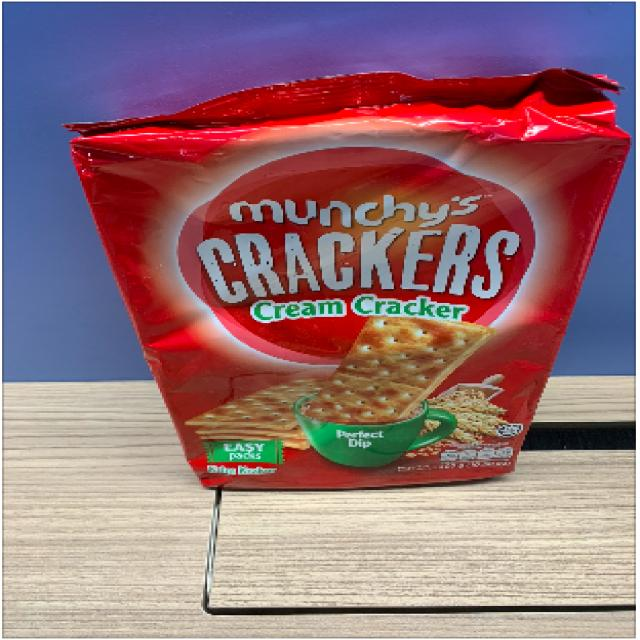object_name: (93, 99, 570, 484)
